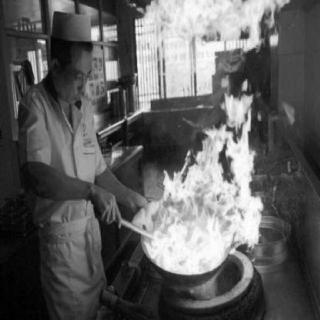Fire: (131, 0, 289, 274)
